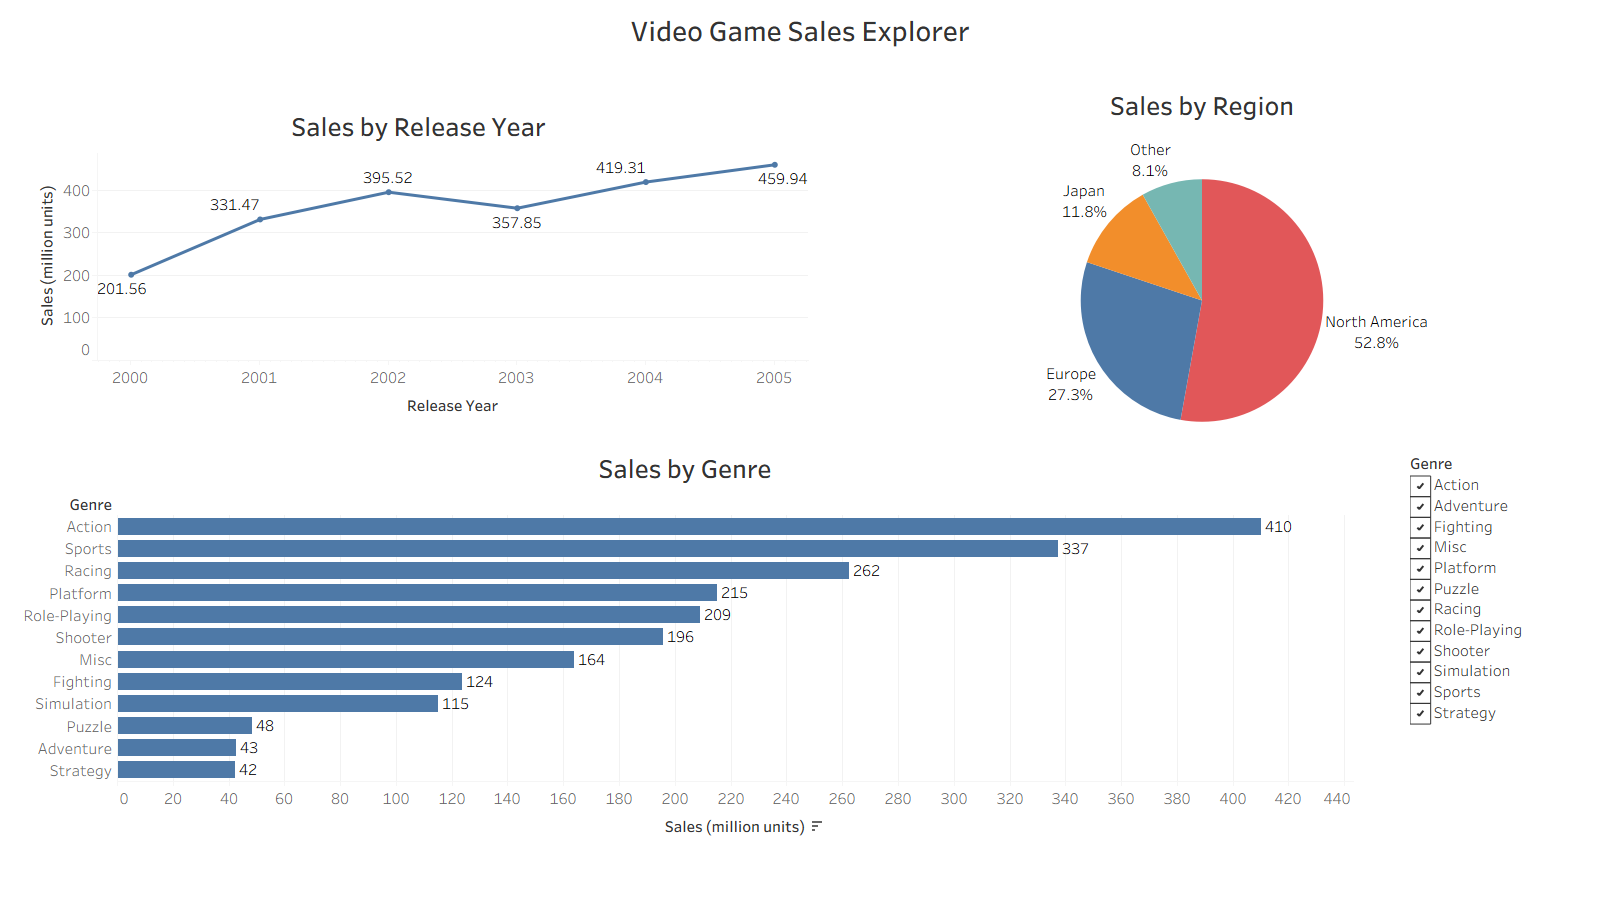

The dashboard page shown, as its layout file describes it:
{"tool":"tableau","page":{"name":"Dashboard 1","canvas":[1600,900],"ordinal":0},"visuals":[{"type":"title","box":[8,8,1584,45]},{"type":"worksheet","title":"Sales by Region","mark":"Pie","box":[811,82,782,387]},{"type":"worksheet","title":"Sales by Year","mark":"Line","rows":["Global_Sales"],"cols":["Year"],"box":[29,103,779,320]},{"type":"worksheet","title":"Sales by Genre","mark":"Automatic","rows":["Genre"],"cols":["Global_Sales"],"box":[17,445,1336,399]},{"type":"filter","title":"Sales by Genre","param":"[federated.161r3270b0tt6l13nj5ht0vsfp66].[none:Genre:nk]","box":[1410,452,169,385]}]}

Visuals, with their boxes in screenshot pixels (x1, y1, x2, y2), scaled from the page's 1600x900 canvas onto the 1600x900 screenshot:
title: rect(8, 8, 1592, 53)
"Sales by Region" worksheet (Pie marks): rect(811, 82, 1593, 469)
"Sales by Year" worksheet (Line marks): rect(29, 103, 808, 423)
"Sales by Genre" worksheet: rect(17, 445, 1353, 844)
"Sales by Genre" filter: rect(1410, 452, 1579, 837)
